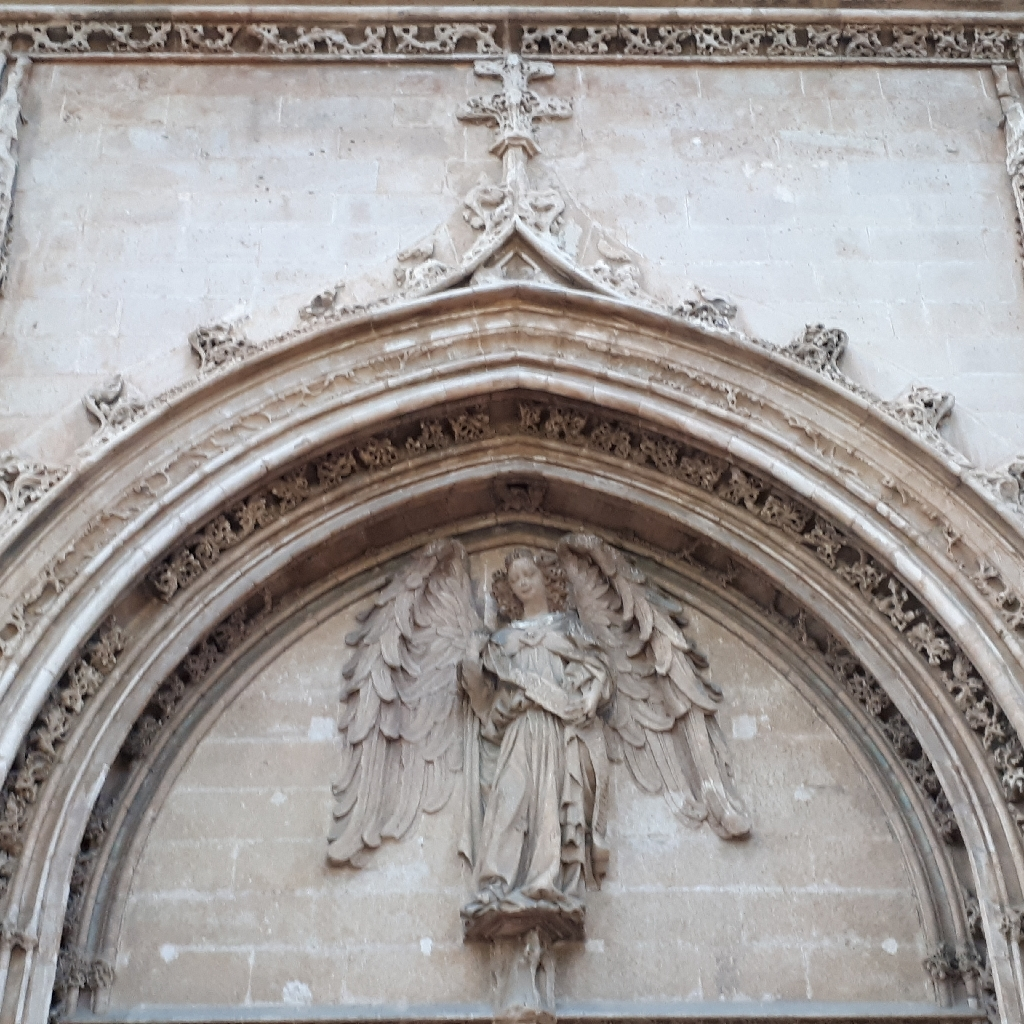arco-apuntado: (1, 356, 1024, 1024)
arco-conopial: (143, 202, 897, 406)
